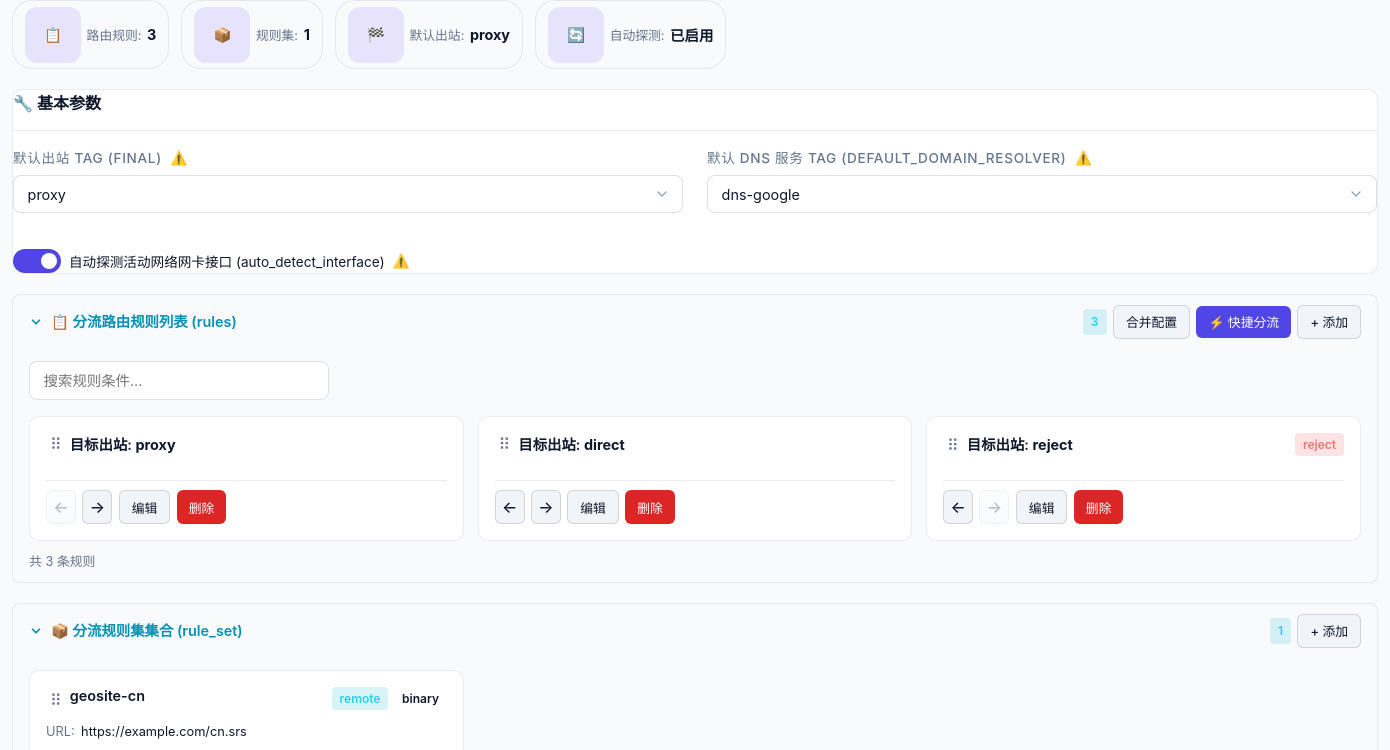
Test: RouteEditor › Search filter › filters rules when search term is entered
Type "CN" into the field with placeholder "搜索规则条件..." at (179, 380), box [29,361,329,400]
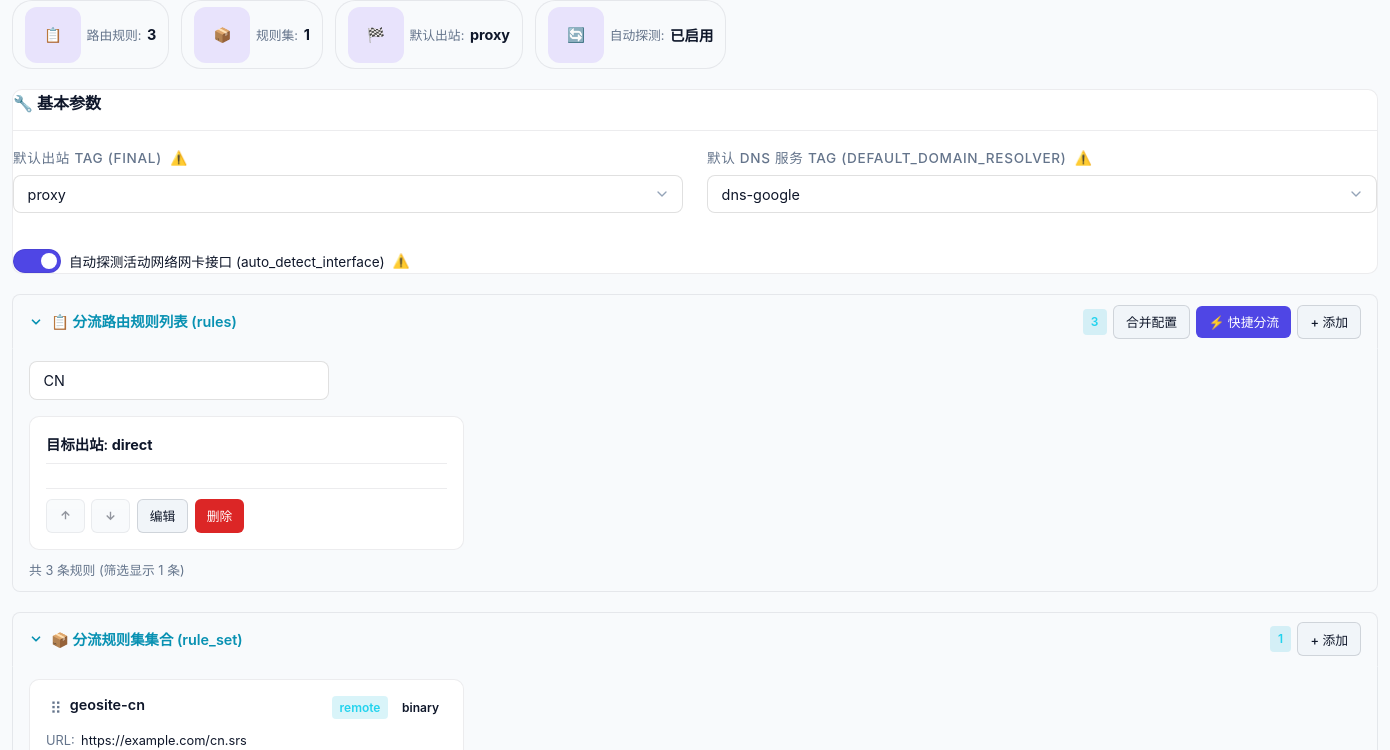
Now the text "(筛选显示 1 条)" is shown, box [99,563,185,578]
